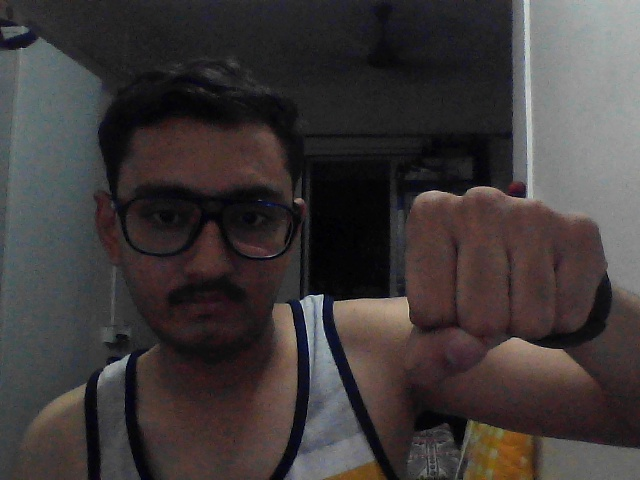Yes: (383, 160, 631, 400)
